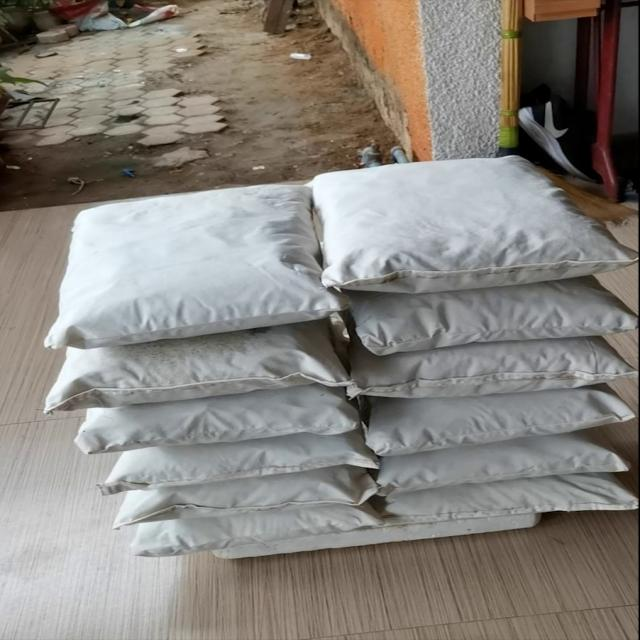Sack: (44, 166, 337, 352), (311, 153, 625, 287), (36, 315, 344, 413), (333, 276, 635, 359), (78, 376, 360, 454), (97, 424, 383, 492), (342, 342, 633, 404), (360, 398, 623, 461), (117, 467, 378, 530), (129, 495, 385, 559), (370, 437, 627, 497), (386, 474, 633, 526)
